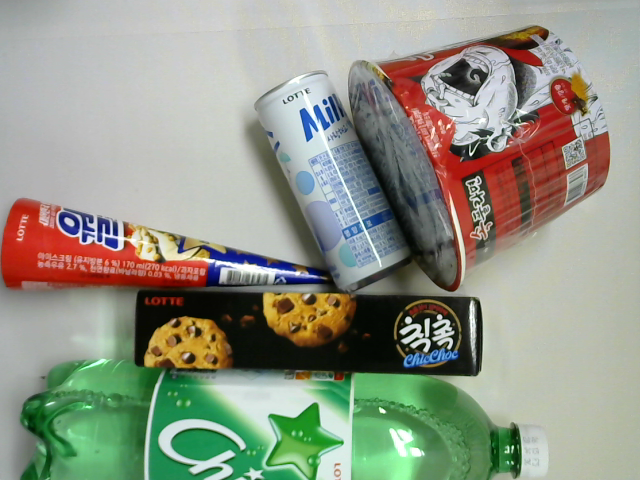Chicchok_Original_2400: (131, 283, 492, 379)
Chilseong_Cider_1.5L: (18, 353, 556, 480)
Hejangpul: (340, 23, 614, 291)
Milkies_250ml: (252, 65, 423, 296)
World_Cone_Banila: (1, 188, 331, 293)
